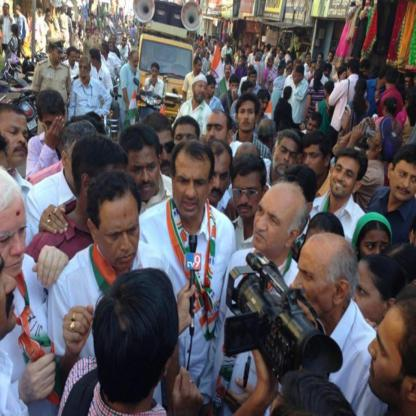face: (368, 319, 416, 402), (99, 203, 141, 270), (295, 257, 334, 322), (345, 273, 385, 328), (96, 162, 129, 221), (1, 207, 27, 278), (174, 166, 209, 217), (253, 196, 287, 247), (126, 152, 160, 201), (1, 237, 18, 333), (232, 178, 263, 219), (1, 116, 29, 161), (361, 237, 391, 276), (147, 137, 176, 176), (203, 162, 230, 202), (391, 164, 416, 201), (331, 161, 355, 195), (274, 141, 298, 174), (176, 130, 198, 162), (206, 119, 228, 150), (302, 145, 323, 177), (43, 117, 65, 142), (367, 127, 384, 154), (239, 106, 256, 130), (196, 83, 208, 101), (79, 63, 90, 78), (308, 121, 318, 137), (54, 48, 64, 64), (259, 98, 269, 113), (244, 88, 254, 101), (132, 57, 140, 70), (250, 74, 258, 85), (231, 83, 239, 94), (70, 54, 77, 66), (208, 86, 215, 98), (360, 68, 369, 77), (152, 68, 159, 79), (90, 55, 97, 66), (405, 80, 412, 91), (198, 62, 204, 73), (342, 73, 349, 82), (325, 70, 332, 77), (297, 74, 303, 82), (348, 66, 352, 77), (307, 56, 313, 63), (112, 37, 117, 45), (226, 68, 231, 76), (312, 66, 317, 74), (4, 5, 9, 13), (110, 45, 115, 52), (329, 55, 334, 62), (318, 57, 323, 64), (325, 87, 328, 98), (101, 47, 105, 55), (288, 71, 293, 77), (95, 30, 99, 37), (88, 32, 92, 38), (289, 65, 293, 71), (282, 69, 286, 75), (270, 61, 274, 67), (15, 9, 18, 16), (256, 56, 260, 61), (48, 17, 52, 22), (124, 40, 127, 46), (243, 59, 246, 65), (201, 51, 204, 57), (247, 49, 250, 55), (280, 53, 283, 59), (225, 57, 228, 62), (208, 54, 211, 59), (279, 49, 282, 54), (227, 43, 230, 48), (254, 48, 257, 53), (241, 52, 244, 57), (127, 37, 130, 41)
